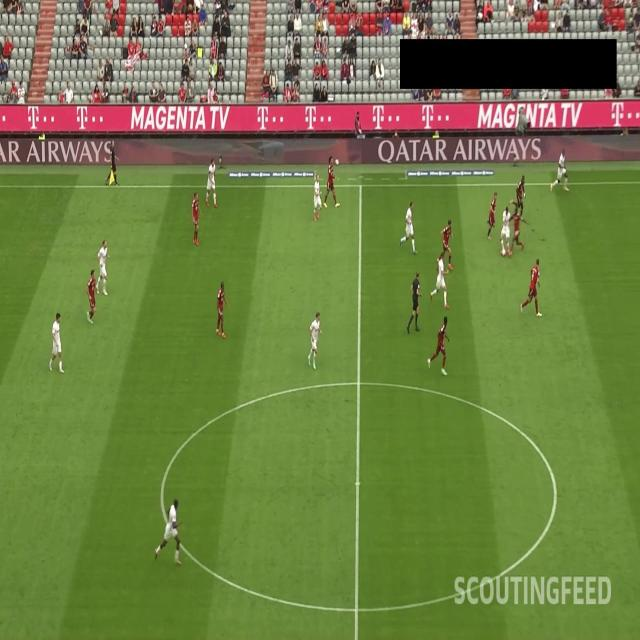ball: (500, 246, 508, 260)
player: (153, 494, 185, 566), (518, 252, 543, 318), (425, 313, 447, 375), (398, 196, 419, 256), (430, 250, 449, 309), (47, 311, 64, 376), (323, 156, 343, 210), (306, 309, 323, 372), (507, 208, 530, 252), (548, 145, 570, 191), (96, 236, 111, 298), (438, 214, 454, 271), (214, 276, 228, 340), (510, 171, 527, 222), (483, 185, 498, 242), (203, 154, 218, 209), (190, 191, 203, 247), (86, 268, 98, 328), (311, 170, 324, 225), (499, 201, 510, 261)
referee: (404, 268, 423, 334), (102, 134, 120, 188)
